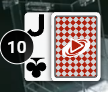j: (25, 12, 48, 38)
